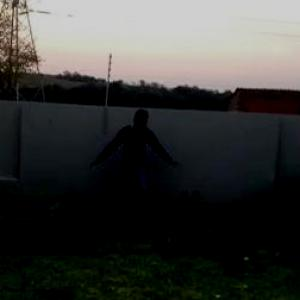land: (88, 100, 181, 230)
